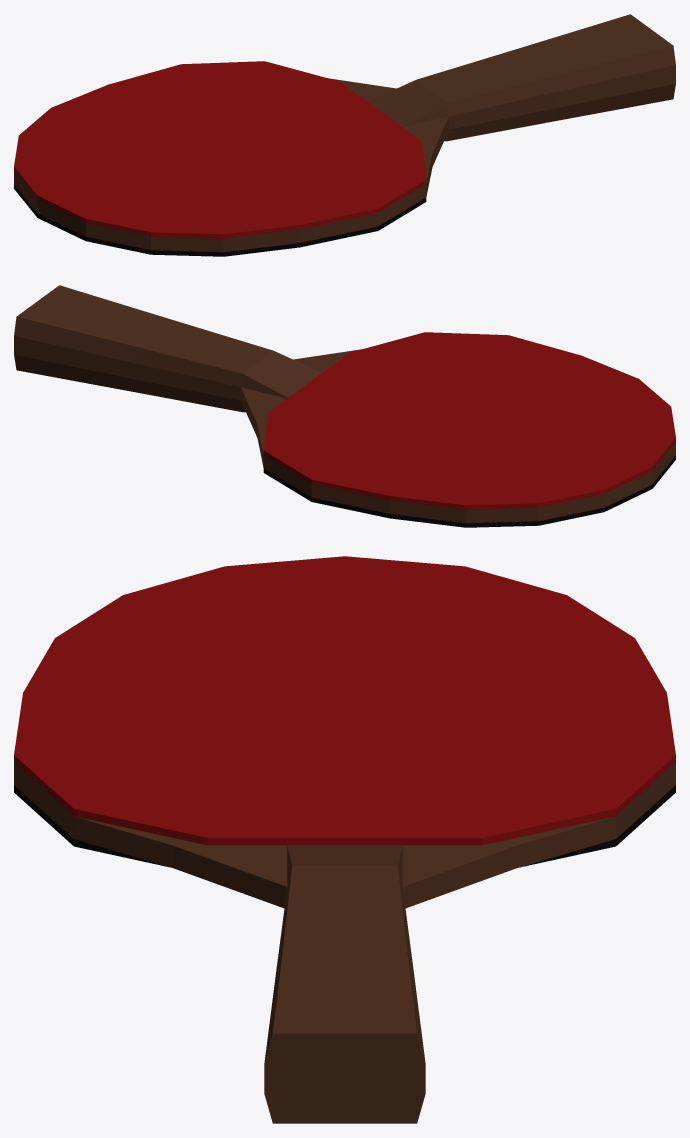
The model's file is tabletennisbat.obj.
The picture shows the model from 3 angles, top to bottom: view 1: azimuth 30°, elevation 25°; view 2: azimuth 150°, elevation 25°; view 3: azimuth 270°, elevation 25°; orthographic projection. The views are drawn at different scales.
Visible parts, largest first — view 1: Circle.004, Circle.005, Circle.002; view 2: Circle.004, Circle.005, Circle.002; view 3: Circle.004, Circle.005, Circle.002.
Boxes of the visible parts, x1=… form: Circle.004: x1=14, y1=61, x2=426, y2=238; Circle.005: x1=14, y1=14, x2=675, y2=252; Circle.002: x1=14, y1=184, x2=426, y2=256; Circle.004: x1=263, y1=332, x2=675, y2=509; Circle.005: x1=14, y1=285, x2=675, y2=523; Circle.002: x1=263, y1=455, x2=675, y2=527; Circle.004: x1=14, y1=556, x2=675, y2=845; Circle.005: x1=14, y1=762, x2=675, y2=1123; Circle.002: x1=14, y1=785, x2=675, y2=867.
Bounding box in the file's own units: 0.2863 × 0.0239 × 0.1591.
